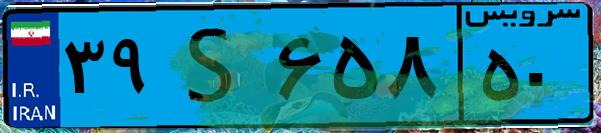0: (525, 38, 570, 115)
3: (57, 26, 110, 100)
5: (330, 28, 385, 110), (475, 38, 525, 113)
6: (270, 28, 330, 110)
8: (385, 28, 445, 110)
9: (110, 28, 158, 98)
S: (158, 12, 270, 120)
